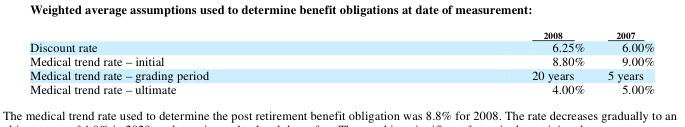table: (29, 28, 653, 96)
table column: (29, 28, 369, 96), (369, 28, 595, 96), (595, 28, 653, 96)
table column header: (29, 28, 653, 39)
table row: (29, 39, 653, 54), (29, 54, 653, 68), (29, 68, 653, 82), (29, 82, 653, 96), (29, 28, 653, 39)
